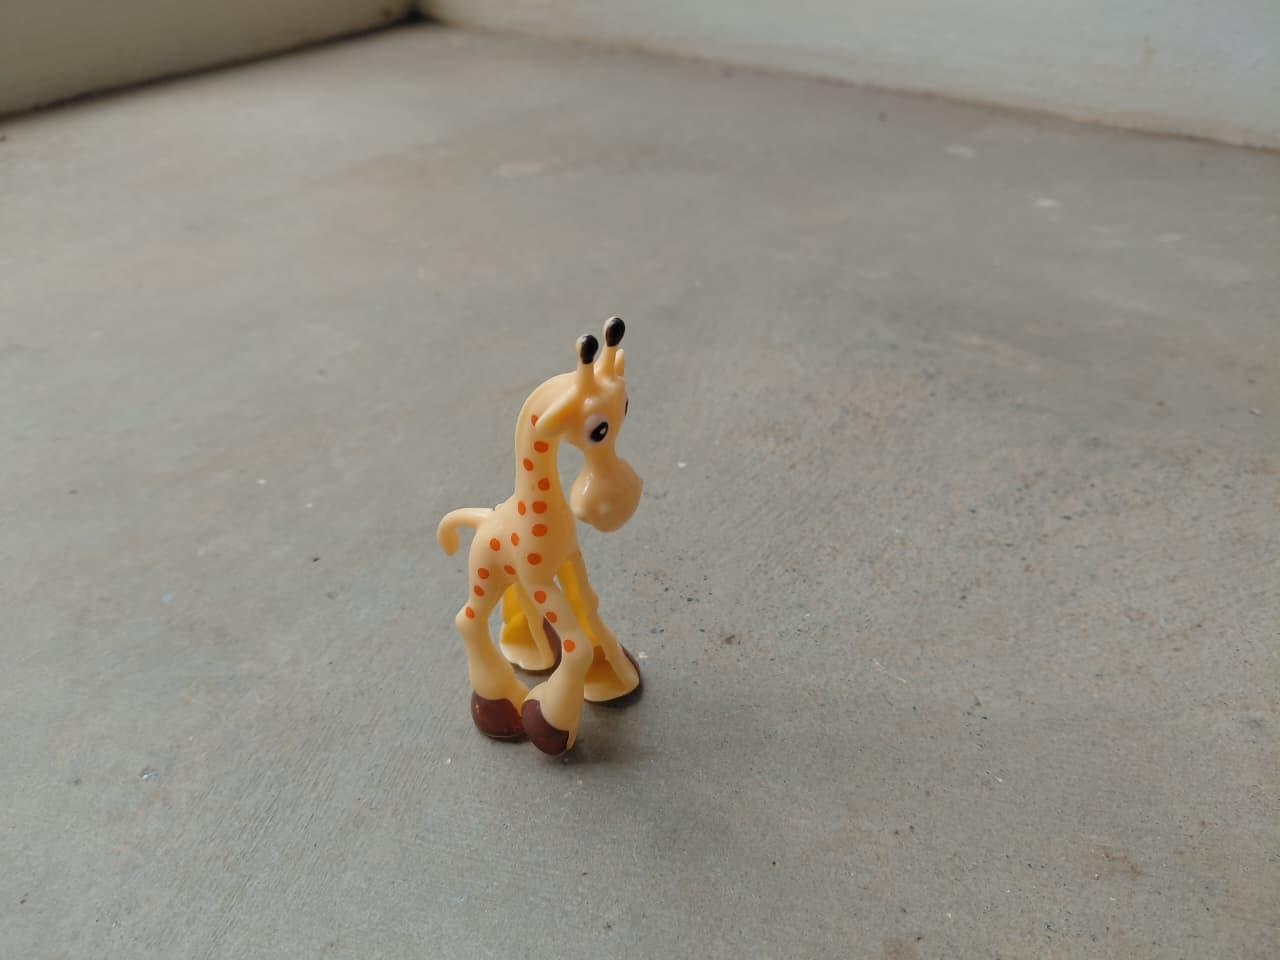giraffe: (424, 323, 664, 752)
